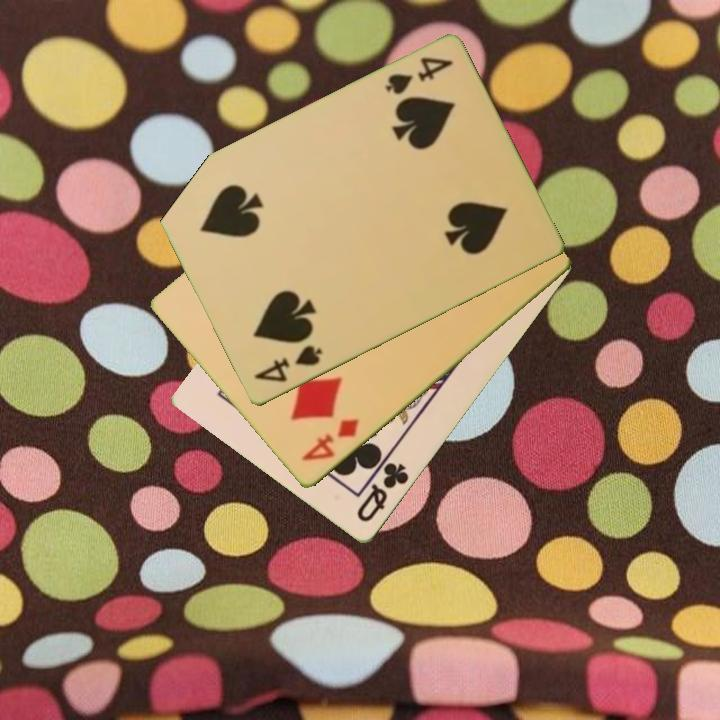4d: (298, 415, 362, 465)
4s: (381, 53, 456, 99), (250, 342, 326, 386)
Qc: (353, 459, 412, 526)
